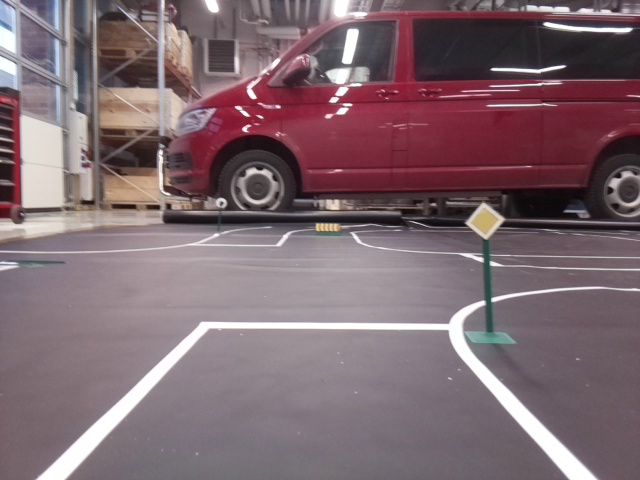Priority: (466, 203, 503, 235)
